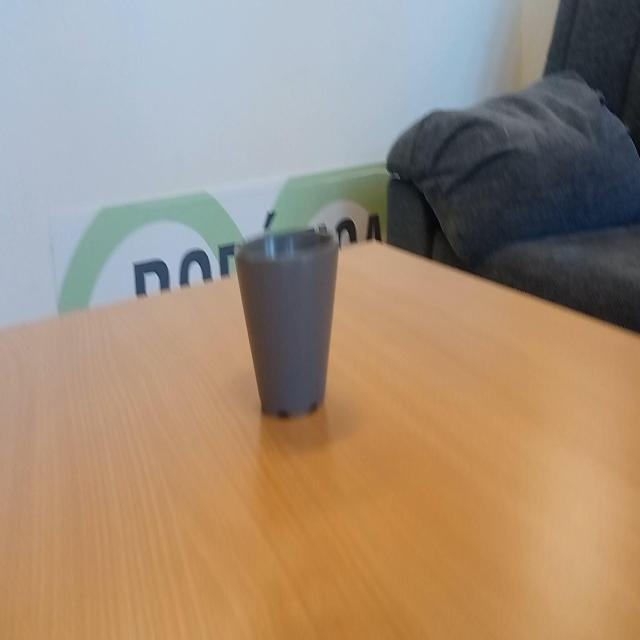cup: (235, 225, 342, 423)
